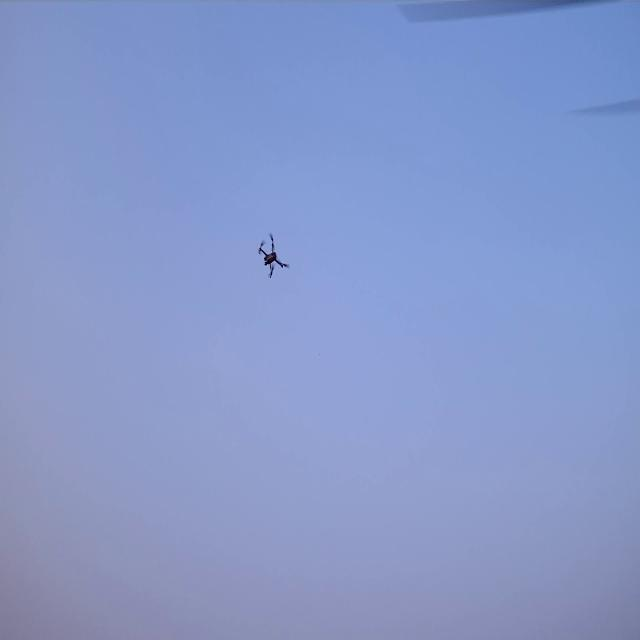UAV: (259, 237, 286, 277)
